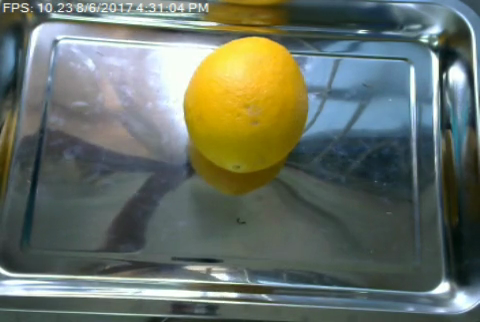Orange: (183, 36, 310, 175)
